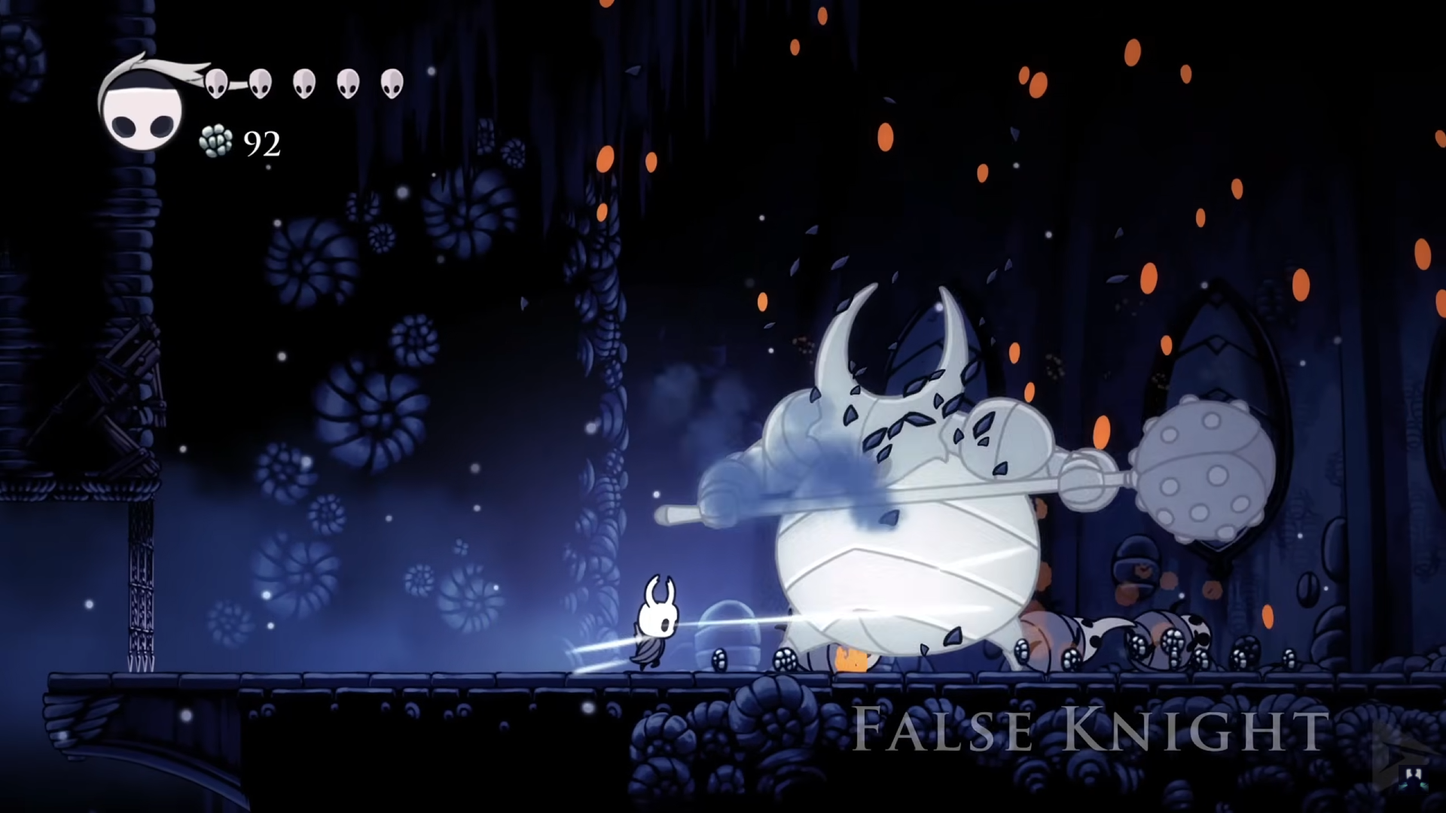HK: (628, 572, 680, 672)
